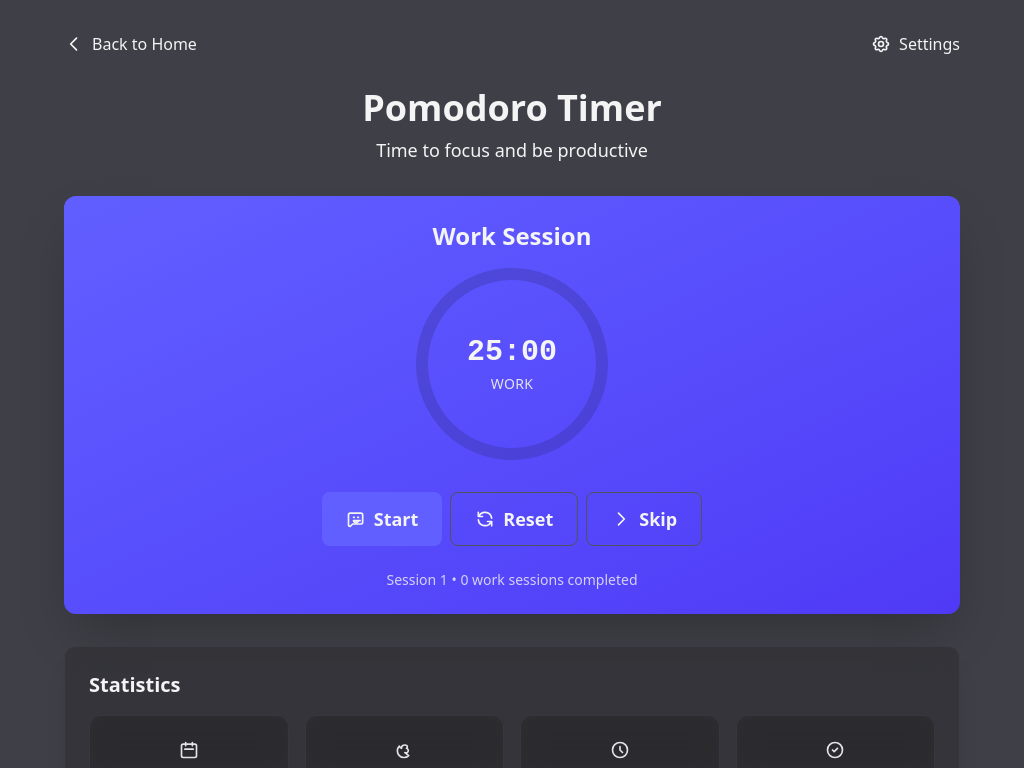
Scenario: PomodoroPage Integration Tests › Complete User Workflows › skips to next session workflow
Expected: the heading "Work Session" is shown, top-left (433, 219), bottom-right (591, 252)
# Find and click skip button
What coordinates should you click on to do the following:
click the button "Skip"
I would click on:
 (644, 519)
Its box is top-left (586, 492), bottom-right (702, 546).
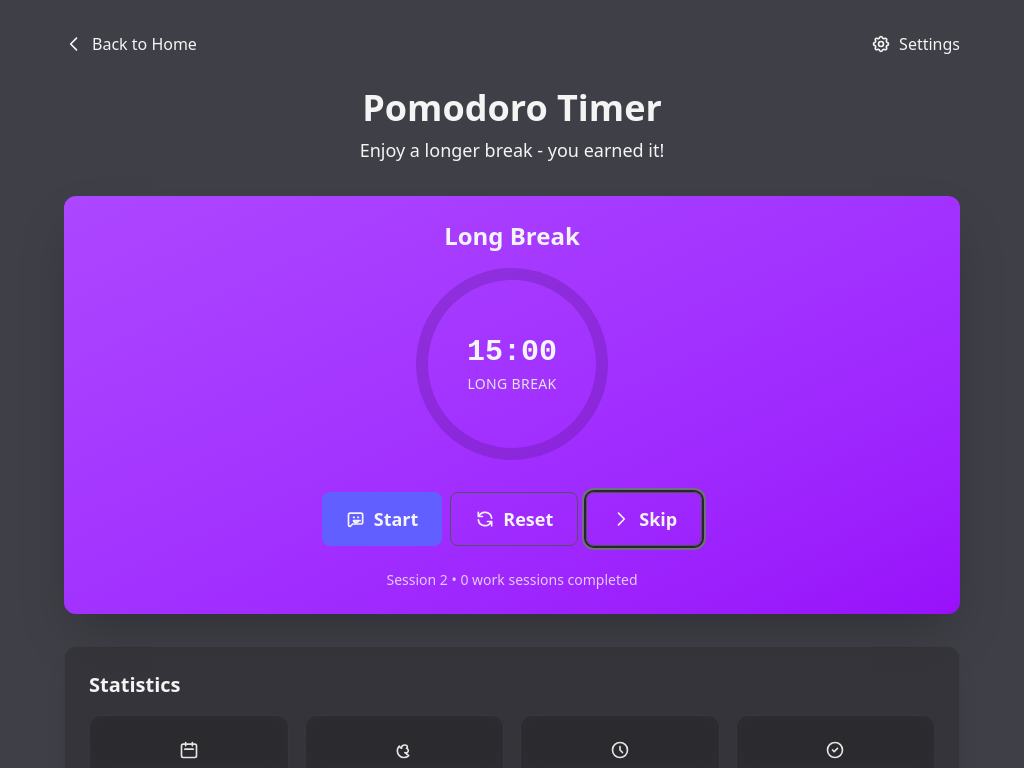
Expected: the heading "Long Break" is shown, top-left (444, 219), bottom-right (580, 252)
